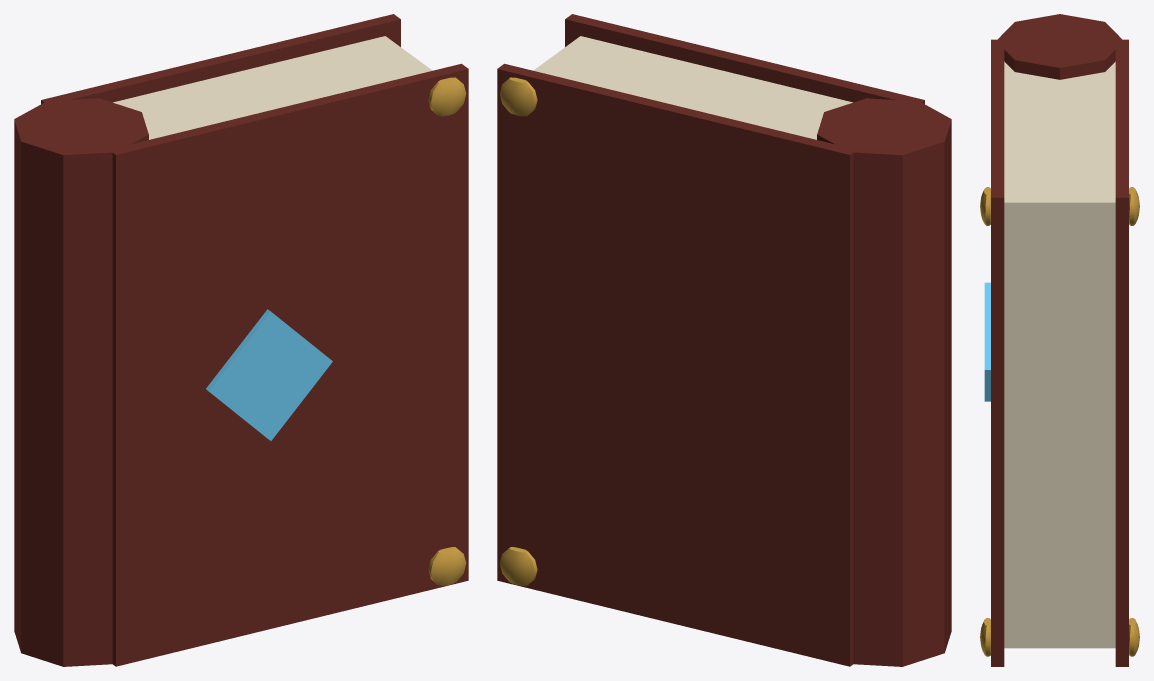
Rendered from Book.fbx.
The picture shows the model from 3 angles, left to right: view 1: azimuth 30°, elevation 25°; view 2: azimuth 150°, elevation 25°; view 3: azimuth 270°, elevation 25°; orthographic projection. The views are drawn at different scales.
Parts seen in each view (by area): view 1: Book; view 2: Book; view 3: Book.
Part boxes in pixels (<box>): Book: <box>14,14,468,666</box>; Book: <box>497,14,951,666</box>; Book: <box>980,14,1139,666</box>.
Bounding box in the file's own units: 0.265 × 0.316 × 0.0976.
